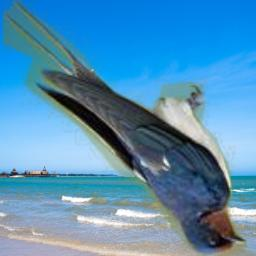Swallow: (3, 0, 247, 256)
